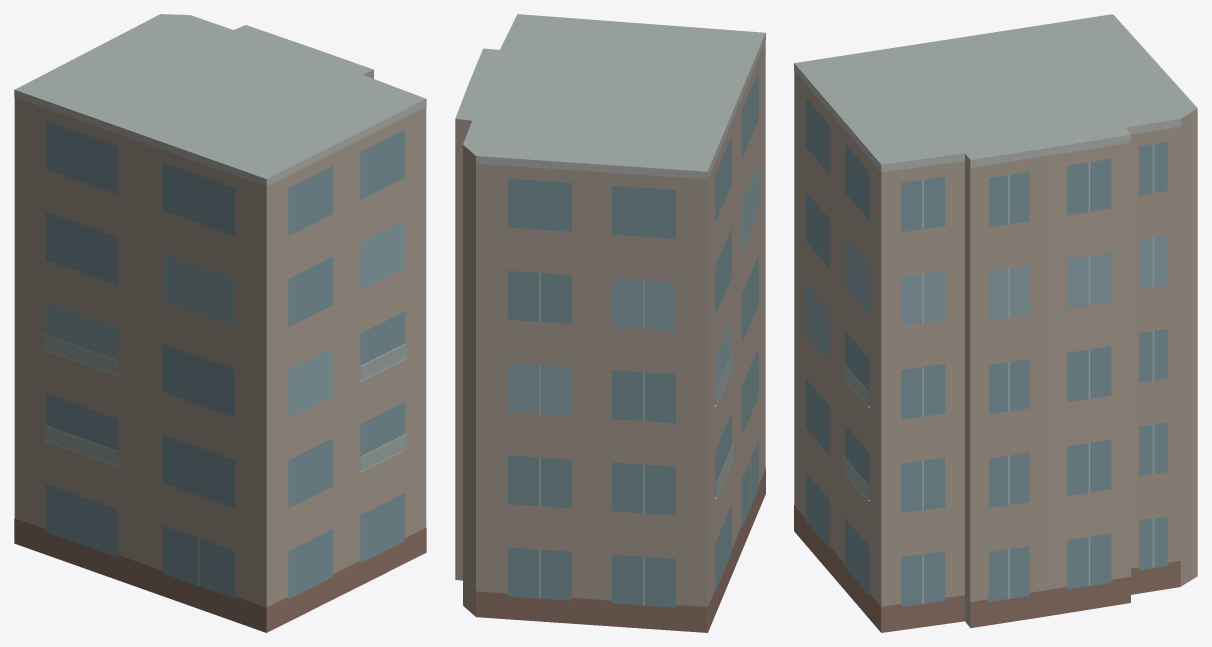
The model's file is survey-upis-33040093.glb.
The picture shows the model from 3 angles, left to right: view 1: azimuth 30°, elevation 25°; view 2: azimuth 150°, elevation 25°; view 3: azimuth 270°, elevation 25°; orthographic projection. The views are drawn at different scales.
Visible parts, largest first — view 1: survey-upis-33040093.tmp; view 2: survey-upis-33040093.tmp; view 3: survey-upis-33040093.tmp.
Part boxes in pixels (x1=…): survey-upis-33040093.tmp: x1=14, y1=14, x2=426, y2=632; survey-upis-33040093.tmp: x1=455, y1=14, x2=765, y2=632; survey-upis-33040093.tmp: x1=794, y1=14, x2=1197, y2=632.
Size of the model in its own units: 10.1 by 14.6 by 11.42.
